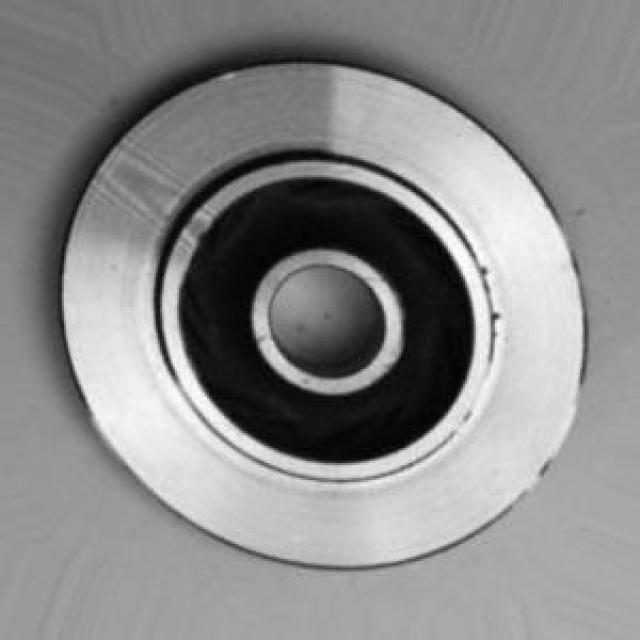Defect: (480, 305, 510, 335)
